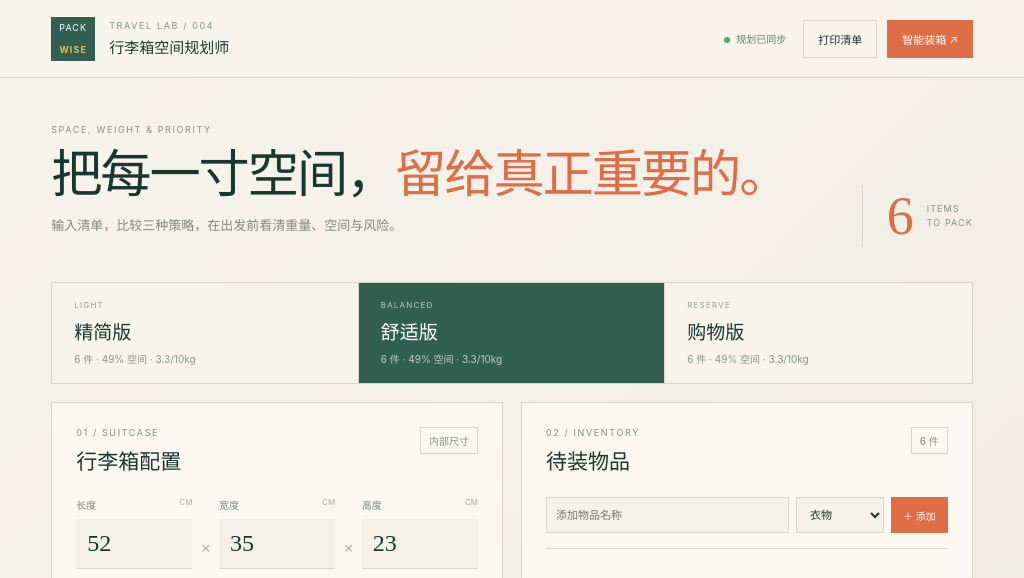
Test case: Luggage planner App › adds and deletes an item
Type "新物品" into the field named "物品名称" at (668, 515), box [546,497,789,533]
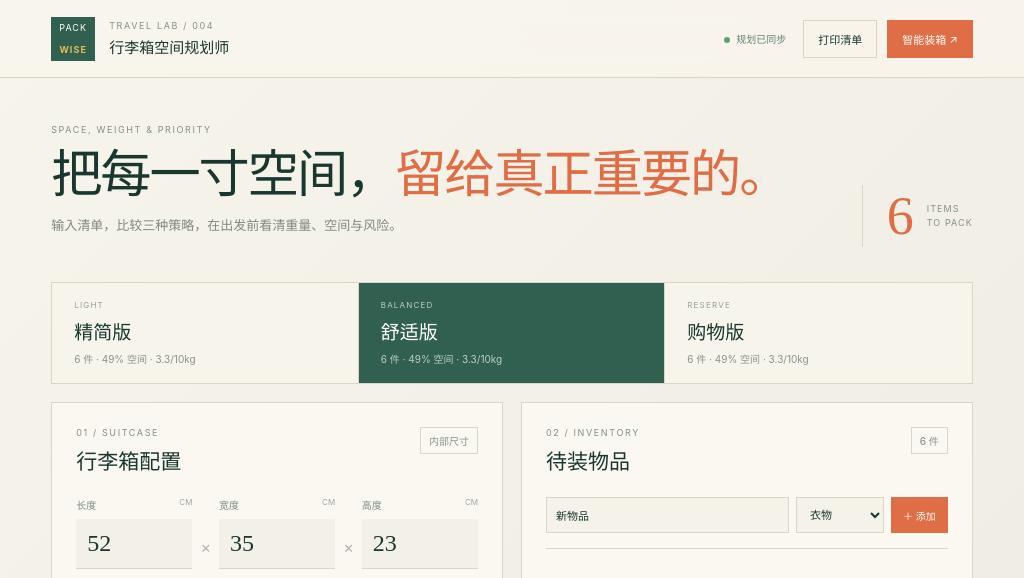
Submit the form with test id "item-editor", box [546,497,948,549]
(page scrolled)
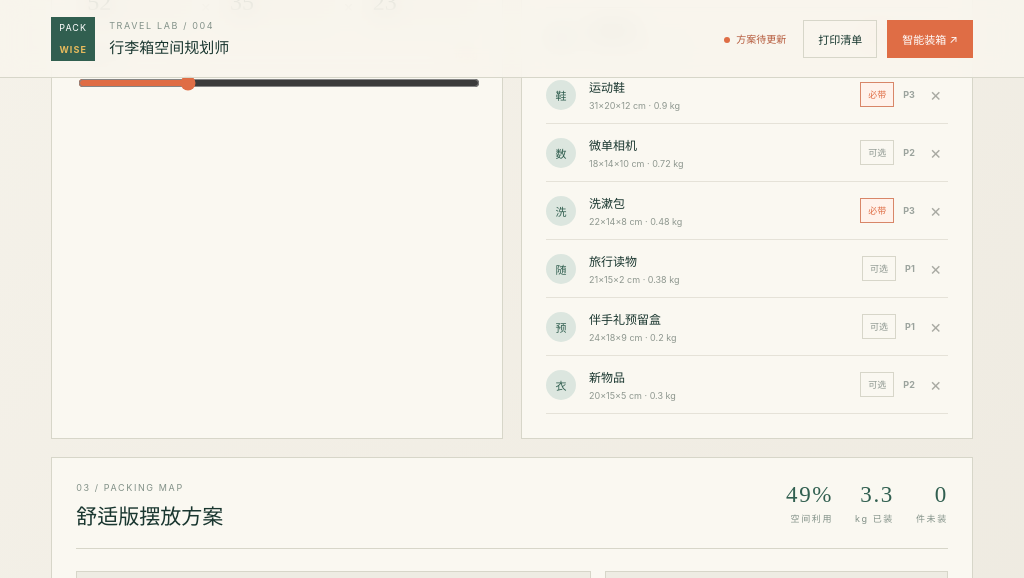
Result: the text "新物品" is shown at [589,370,625,385]
Click the button named "删除 新物品" at (936, 385), box [924,373,948,396]
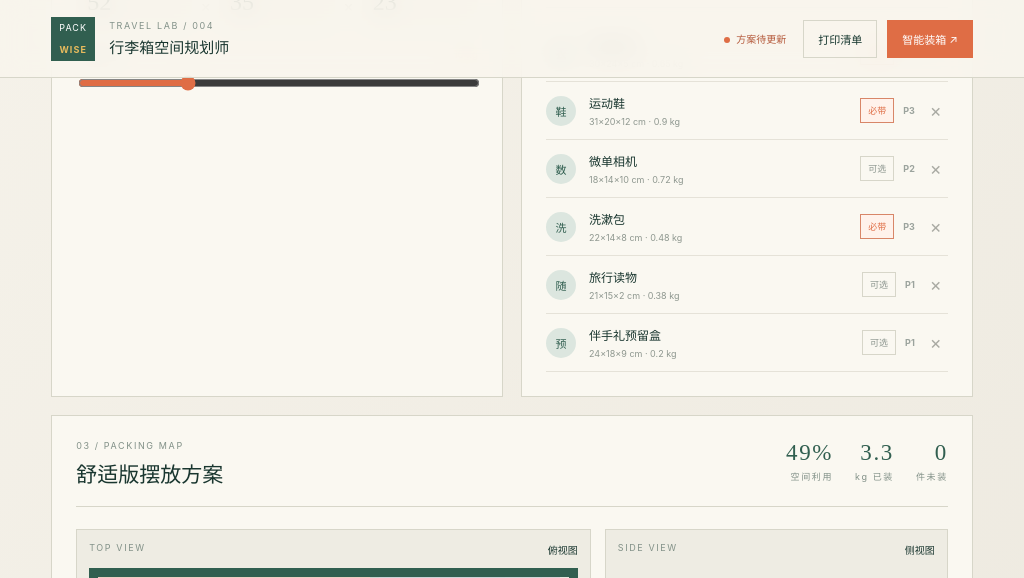
Result: the text "新物品" is gone
